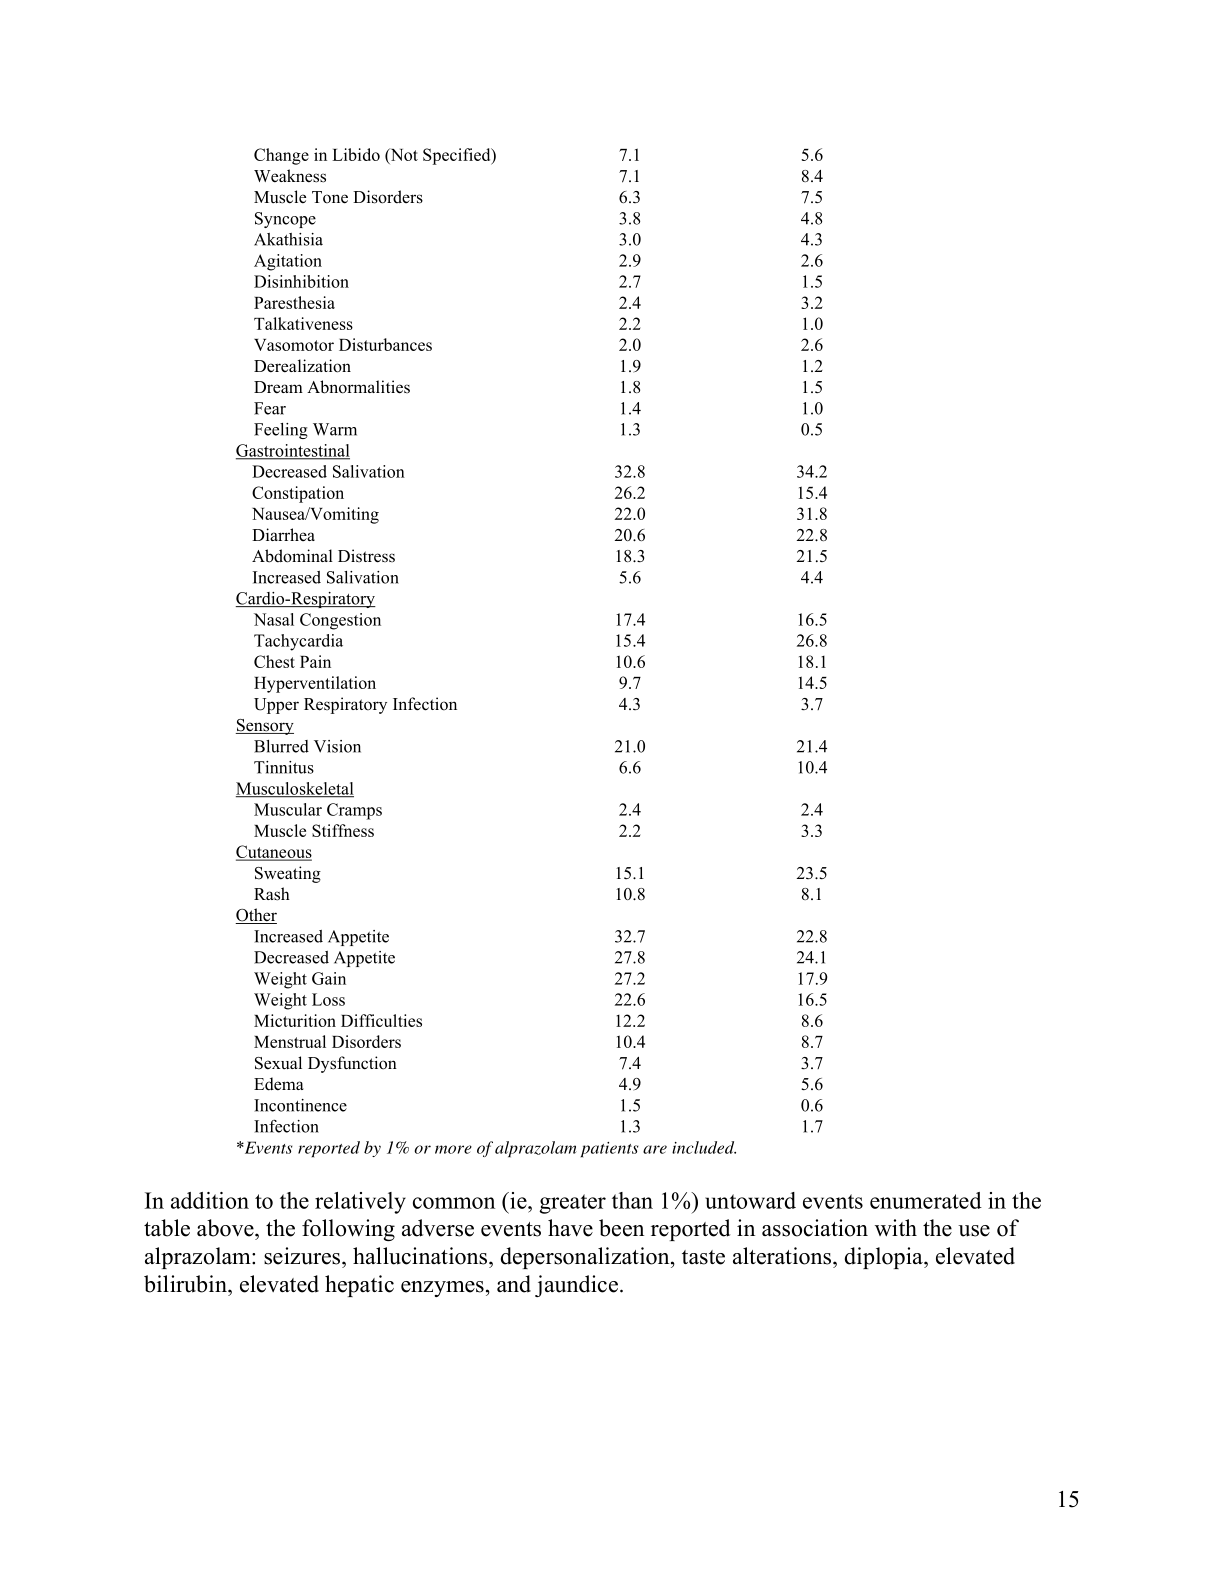nolines: (233, 141, 829, 1137)
